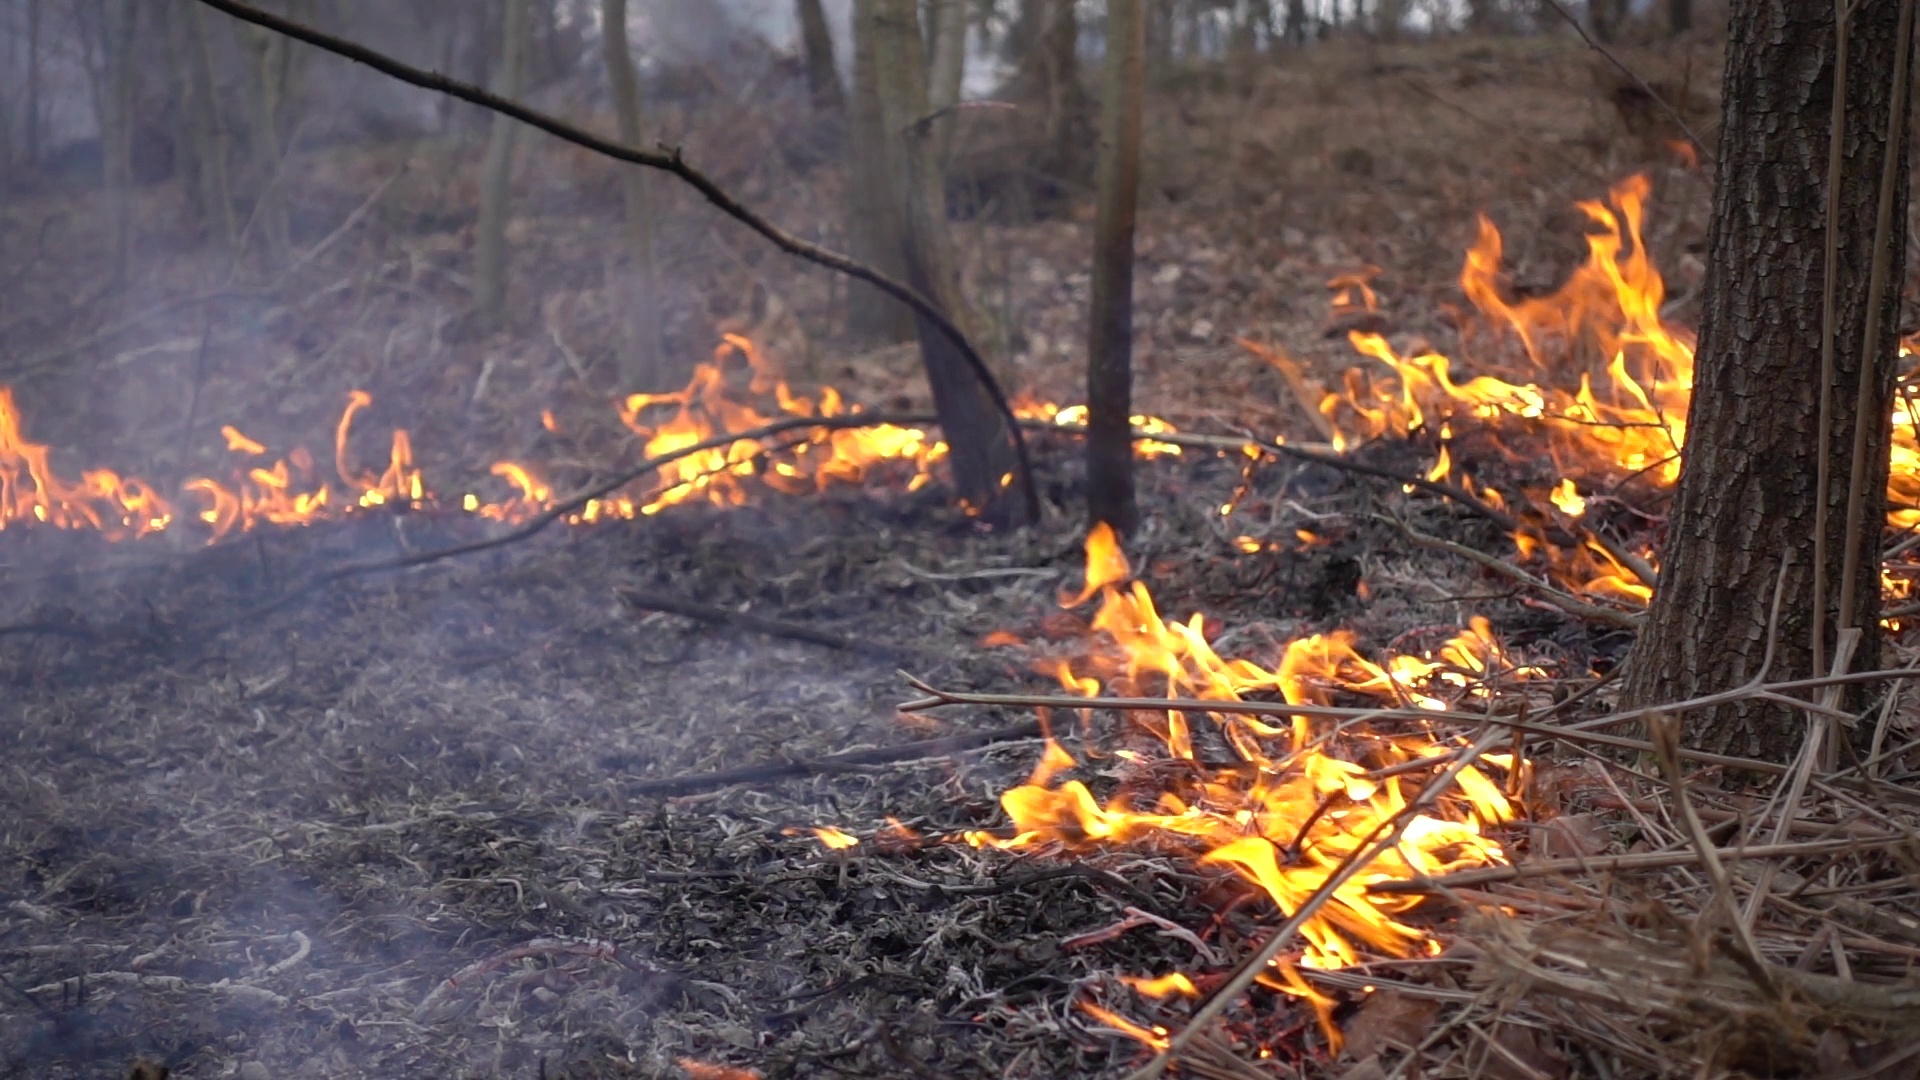fire: (1033, 525, 1531, 964), (1317, 204, 1685, 477), (626, 367, 924, 510), (1, 401, 157, 537), (330, 396, 425, 512), (196, 464, 313, 531), (1886, 377, 1920, 524), (1135, 411, 1174, 452), (1055, 400, 1087, 429)
